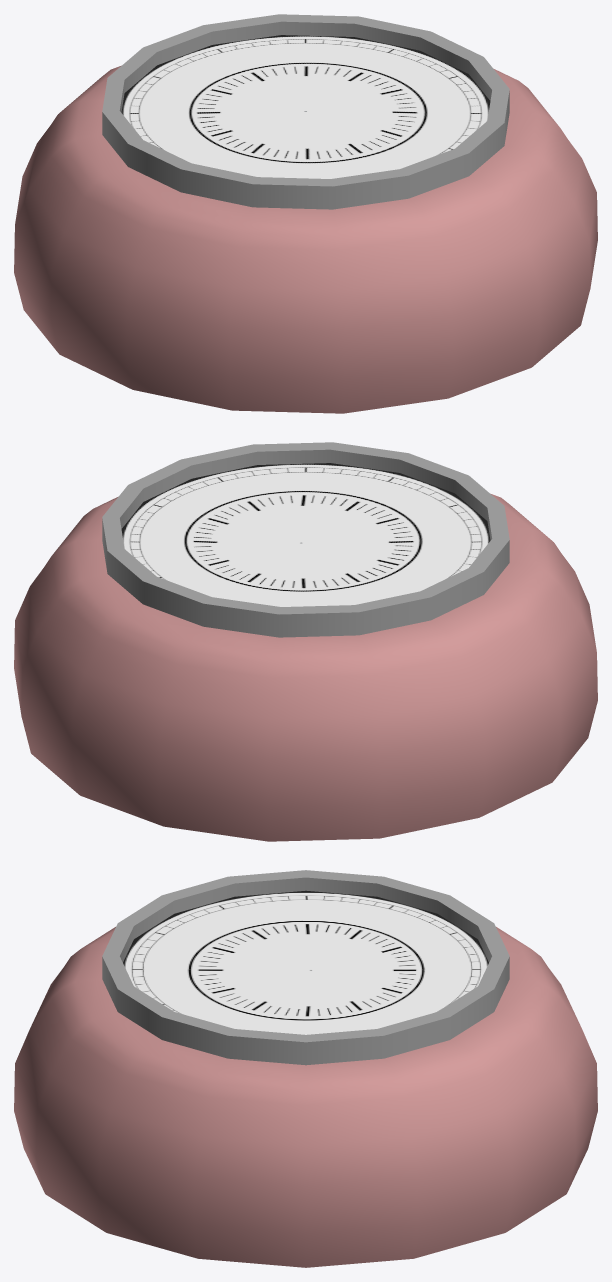
The model's file is clock.fbx.
3 renders of one model, top to bottom at view 1: azimuth 30°, elevation 25°; view 2: azimuth 150°, elevation 25°; view 3: azimuth 270°, elevation 25°, orthographic.
Visible parts, largest first — view 1: pCylinder3; view 2: pCylinder3; view 3: pCylinder3.
Part boxes in pixels (x1,y1,x2,y2): pCylinder3: (14, 14, 597, 413); pCylinder3: (14, 442, 597, 841); pCylinder3: (14, 870, 597, 1267).
Bounding box in the file's own units: 2.15 × 0.7826 × 2.15.
